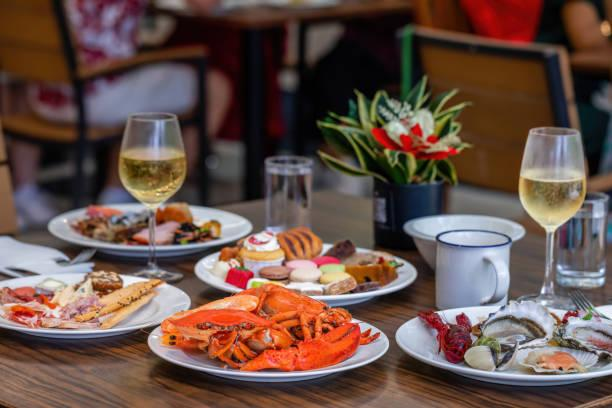Braised Crucian Carp: (392, 303, 611, 386), (149, 315, 387, 382), (193, 242, 411, 305), (1, 272, 189, 338), (47, 202, 246, 257)
